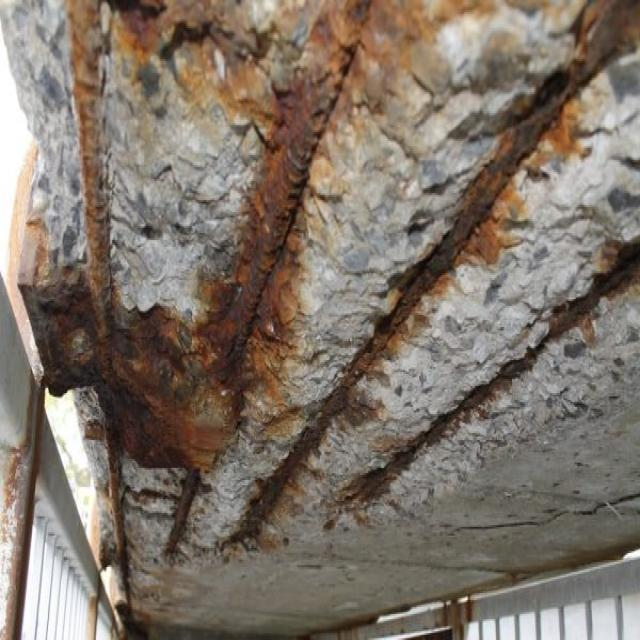crack: (228, 0, 639, 543), (339, 240, 639, 503), (200, 141, 318, 432), (66, 0, 111, 359), (81, 273, 128, 438), (165, 461, 200, 558)
spalling: (9, 0, 639, 633)
